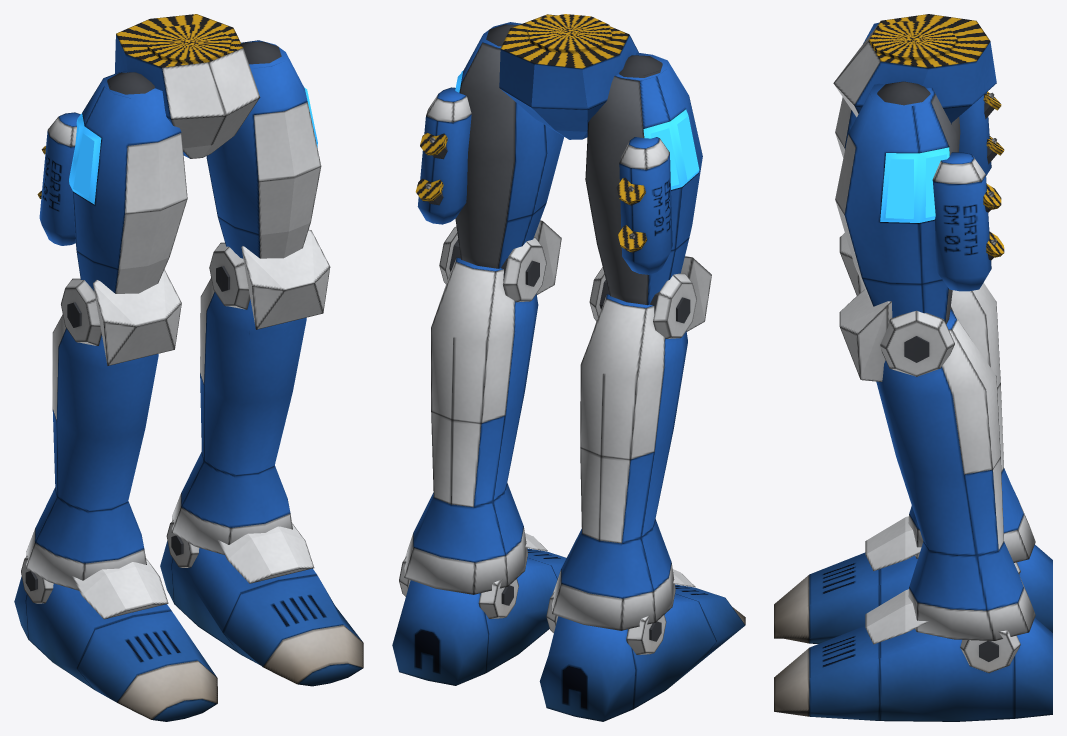
File: DrunkMissileLegsX.glb
3 renders of one model, left to right at view 1: azimuth 30°, elevation 25°; view 2: azimuth 150°, elevation 25°; view 3: azimuth 270°, elevation 25°, orthographic. The views are drawn at different scales.
Parts seen in each view (by area): view 1: DrunkMissileLegsX_ShinL, DrunkMissileLegsX_ShinR, DrunkMissileLegsX_ThighL, DrunkMissileLegsX_FootL, DrunkMissileLegsX_FootR, DrunkMissileLegsX_ThighR, DrunkMissileLegsX_Pelvis; view 2: DrunkMissileLegsX_ShinL, DrunkMissileLegsX_ShinR, DrunkMissileLegsX_ThighL, DrunkMissileLegsX_ThighR, DrunkMissileLegsX_FootL, DrunkMissileLegsX_FootR, DrunkMissileLegsX_Pelvis; view 3: DrunkMissileLegsX_ShinR, DrunkMissileLegsX_ThighR, DrunkMissileLegsX_FootR, DrunkMissileLegsX_Pelvis, DrunkMissileLegsX_FootL, DrunkMissileLegsX_ShinL, DrunkMissileLegsX_ThighL.
Part boxes in pixels (bbox=[...]): DrunkMissileLegsX_ShinL: bbox=[26, 269, 181, 590]; DrunkMissileLegsX_ShinR: bbox=[171, 230, 330, 554]; DrunkMissileLegsX_ThighL: bbox=[37, 71, 187, 293]; DrunkMissileLegsX_FootL: bbox=[14, 555, 217, 721]; DrunkMissileLegsX_FootR: bbox=[160, 520, 363, 686]; DrunkMissileLegsX_ThighR: bbox=[206, 40, 321, 258]; DrunkMissileLegsX_Pelvis: bbox=[107, 14, 281, 158]; DrunkMissileLegsX_ShinL: bbox=[551, 255, 711, 630]; DrunkMissileLegsX_ShinR: bbox=[404, 220, 561, 594]; DrunkMissileLegsX_ThighL: bbox=[585, 52, 702, 305]; DrunkMissileLegsX_ThighR: bbox=[415, 22, 563, 268]; DrunkMissileLegsX_FootL: bbox=[539, 569, 745, 721]; DrunkMissileLegsX_FootR: bbox=[392, 533, 566, 685]; DrunkMissileLegsX_Pelvis: bbox=[486, 14, 662, 139]; DrunkMissileLegsX_ShinR: bbox=[839, 289, 1035, 640]; DrunkMissileLegsX_ThighR: bbox=[835, 83, 1004, 324]; DrunkMissileLegsX_FootR: bbox=[774, 589, 1052, 721]; DrunkMissileLegsX_Pelvis: bbox=[833, 14, 996, 123]; DrunkMissileLegsX_FootL: bbox=[774, 516, 1052, 643]; DrunkMissileLegsX_ShinL: bbox=[839, 233, 1035, 562]; DrunkMissileLegsX_ThighL: bbox=[835, 22, 1004, 175].
Size of the model in its own units: 9.56 by 21.56 by 8.7.
Materials: 7 (6 with a texture image).
